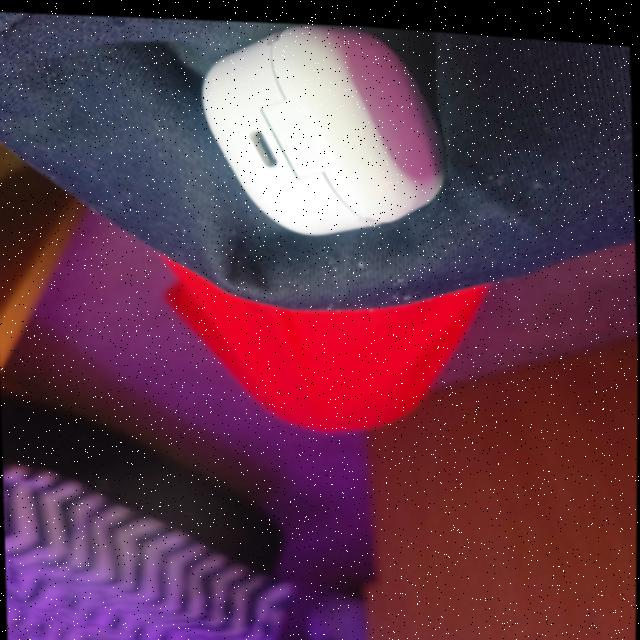headphones: (201, 20, 442, 229)
